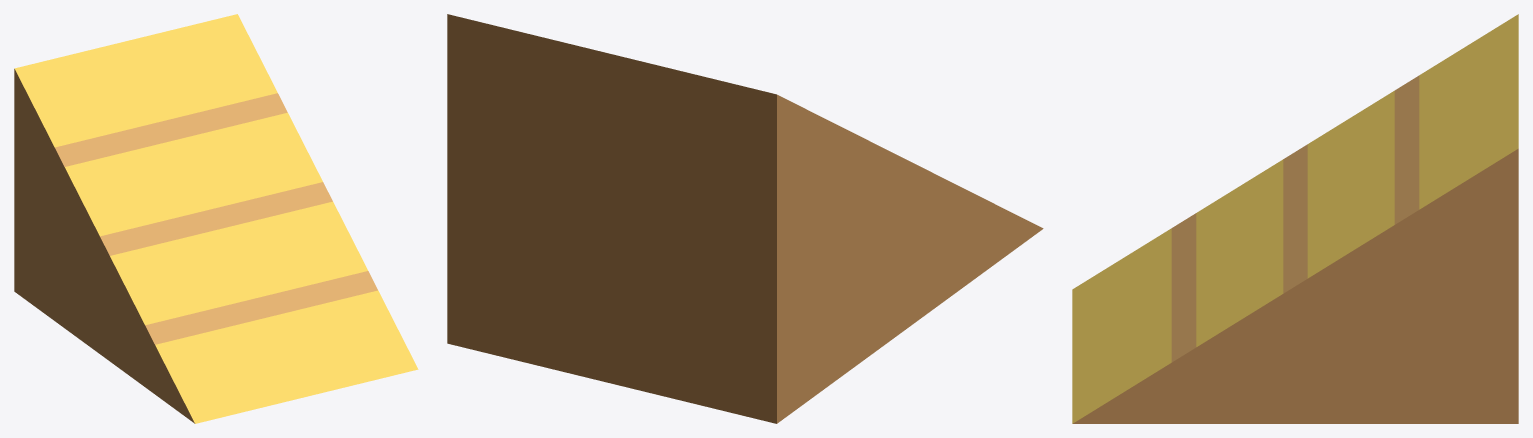
Rendered from slope.fbx.
3 renders of one model, left to right at view 1: azimuth 30°, elevation 25°; view 2: azimuth 150°, elevation 25°; view 3: azimuth 270°, elevation 25°, orthographic. The views are drawn at different scales.
Visible parts, largest first — view 1: slope, slope_R; view 2: slope_back, slope_R; view 3: slope_L, slope.
Boxes of the visible parts, x1,y1,x2,y2 form: slope: (14, 14, 418, 423); slope_R: (14, 69, 194, 423); slope_back: (447, 14, 776, 423); slope_R: (777, 94, 1043, 423); slope_L: (1073, 148, 1518, 423); slope: (1072, 14, 1518, 423).
Bounding box in the file's own units: 75.83 × 72.44 × 106.
1 material, 1 textured.
